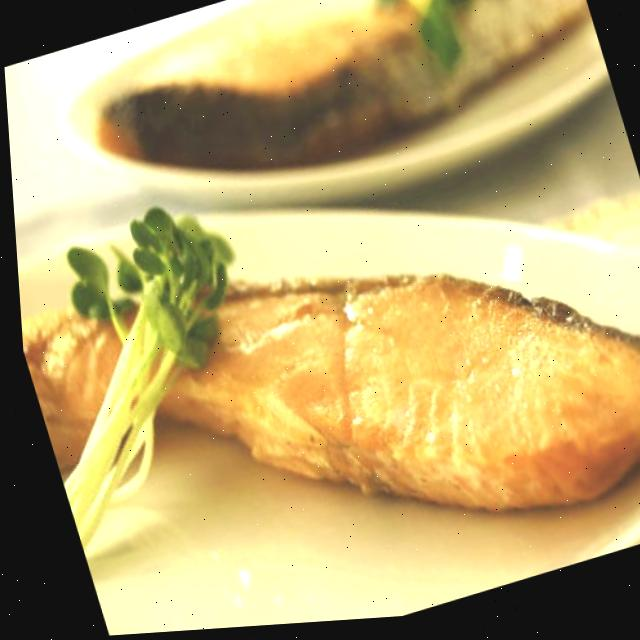熟制海鲜: (6, 74, 640, 640)
